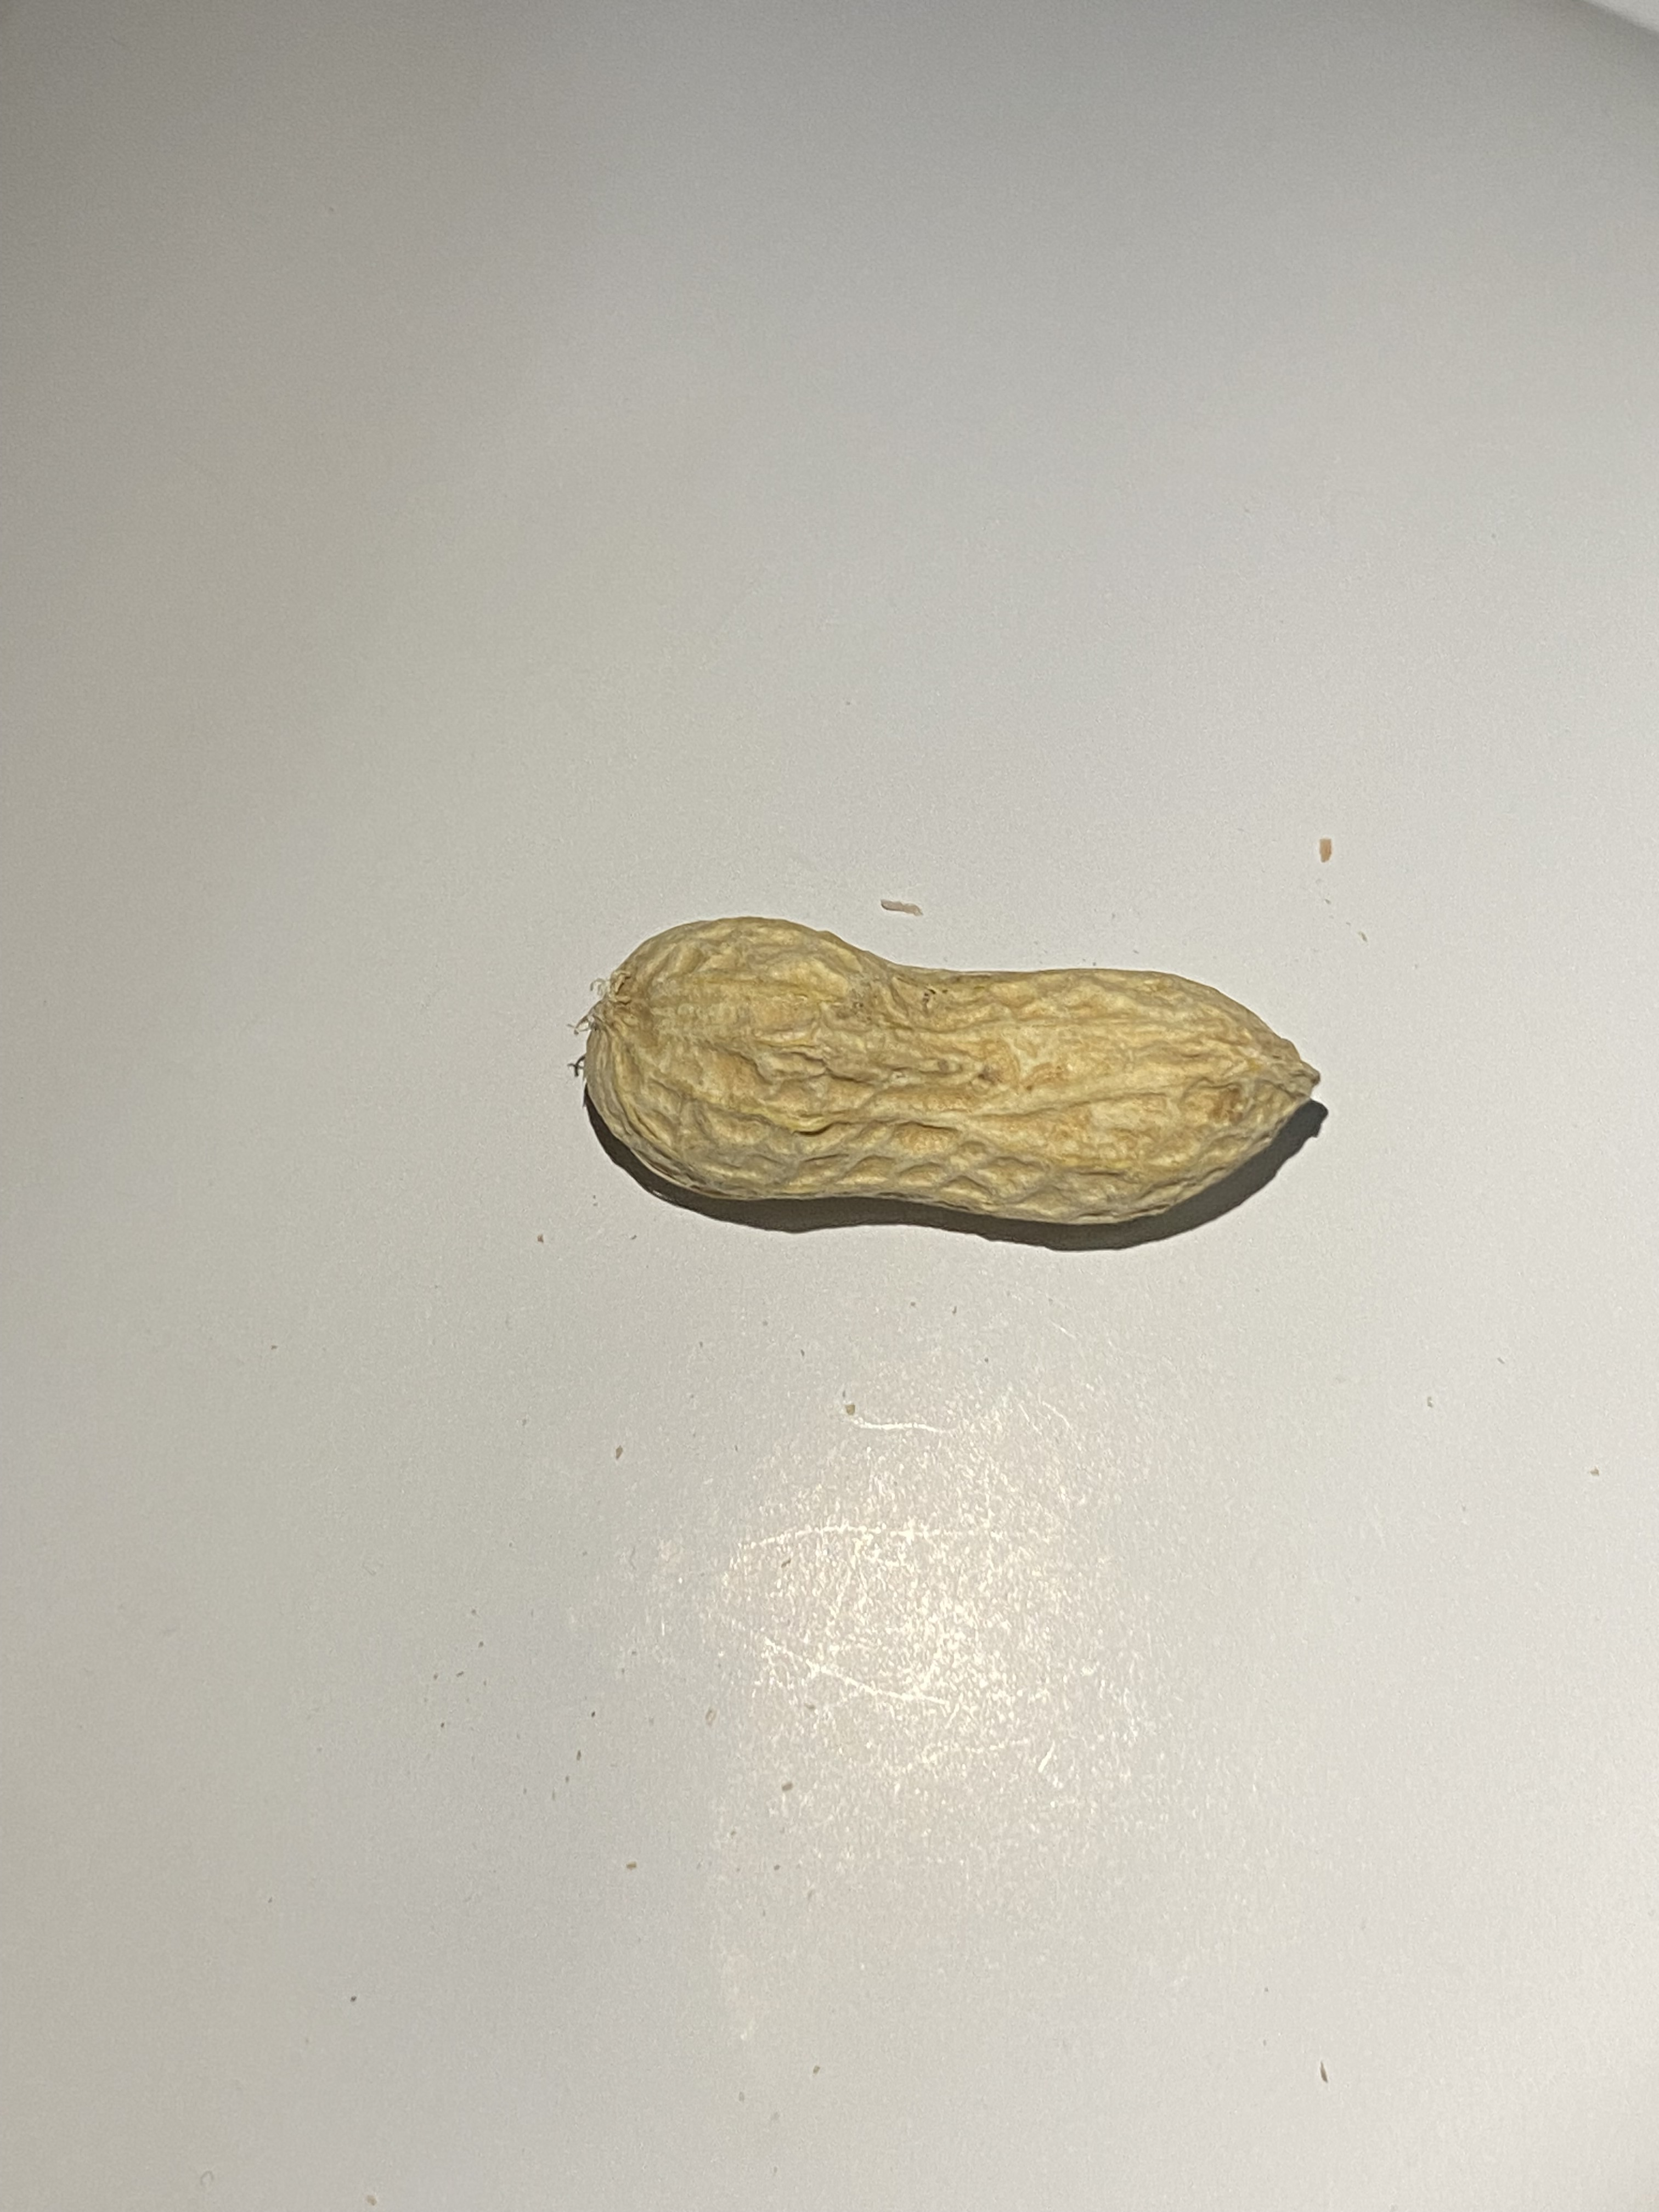kacang2: (533, 914, 1331, 1244)
